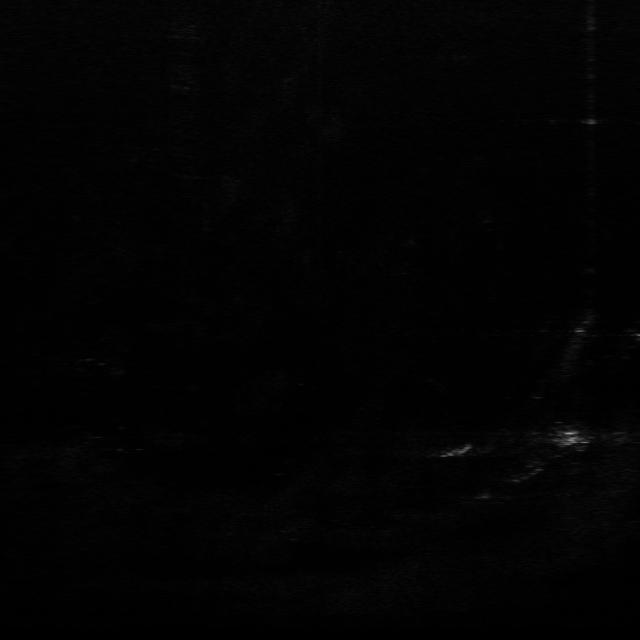rov: (552, 429, 583, 449)
